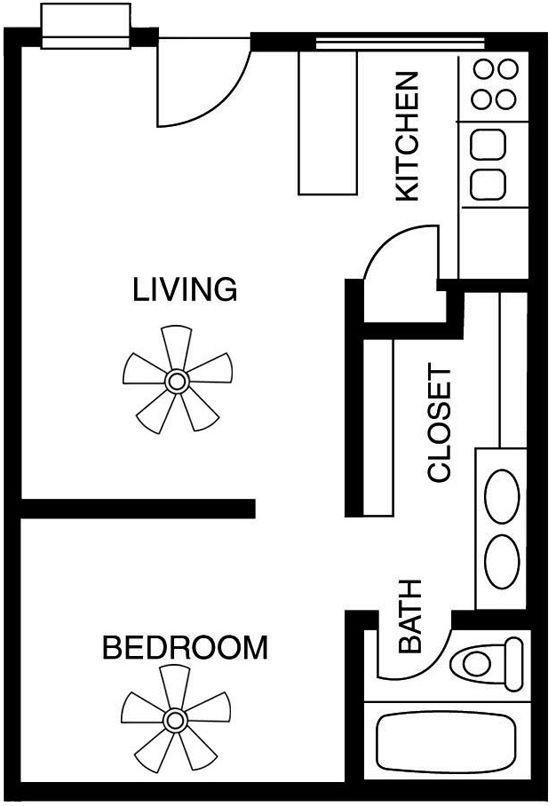door: (158, 40, 247, 134), (372, 216, 451, 298), (380, 616, 454, 686)
room: (9, 25, 293, 526), (19, 525, 531, 781), (300, 54, 547, 353), (355, 322, 526, 616)
wall: (525, 31, 552, 806), (1, 27, 23, 805), (6, 778, 555, 805), (12, 495, 256, 531), (339, 272, 370, 517), (341, 604, 370, 782), (345, 314, 469, 348), (251, 22, 321, 62), (454, 606, 528, 636), (436, 275, 523, 299), (487, 32, 553, 56), (1, 22, 48, 49), (132, 23, 160, 51)
window: (37, 4, 134, 49)
